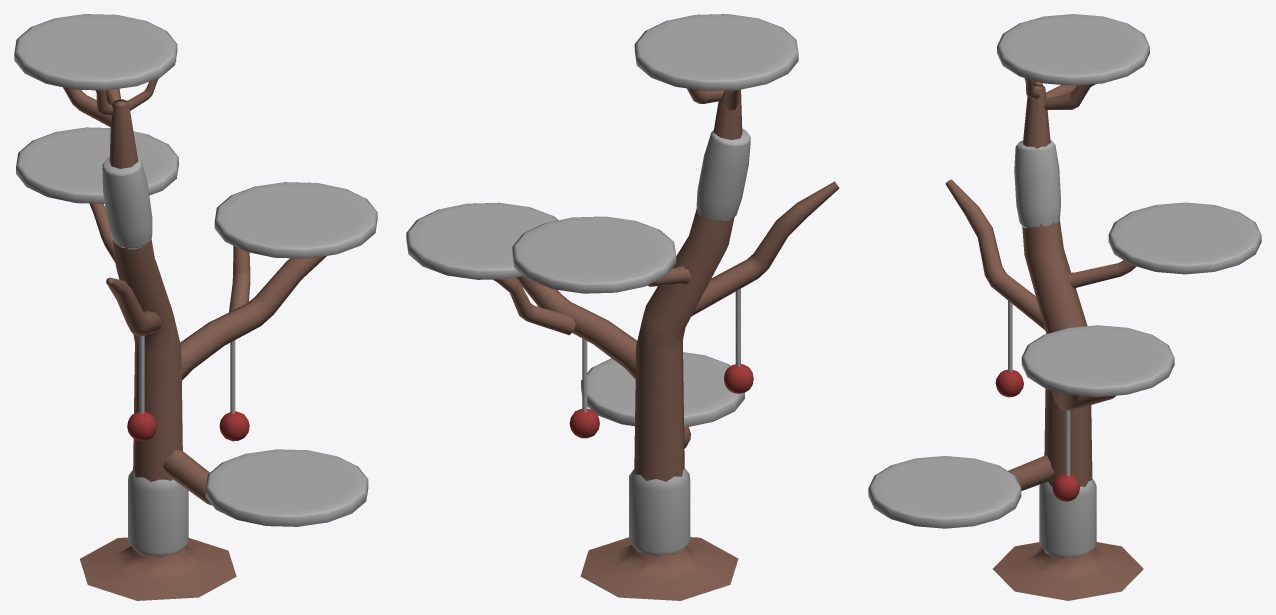
Rendered from Cat_Tree.fbx.
The picture shows the model from 3 angles, left to right: view 1: azimuth 30°, elevation 25°; view 2: azimuth 150°, elevation 25°; view 3: azimuth 270°, elevation 25°; orthographic projection. The views are drawn at different scales.
Visible parts, largest first — view 1: Cat_tree; view 2: Cat_tree; view 3: Cat_tree.
Part boxes in pixels (x1=…): Cat_tree: x1=14, y1=14, x2=377, y2=600; Cat_tree: x1=406, y1=14, x2=839, y2=600; Cat_tree: x1=868, y1=14, x2=1261, y2=600.
Bounding box in the file's own units: 23.39 × 33.53 × 24.03.
